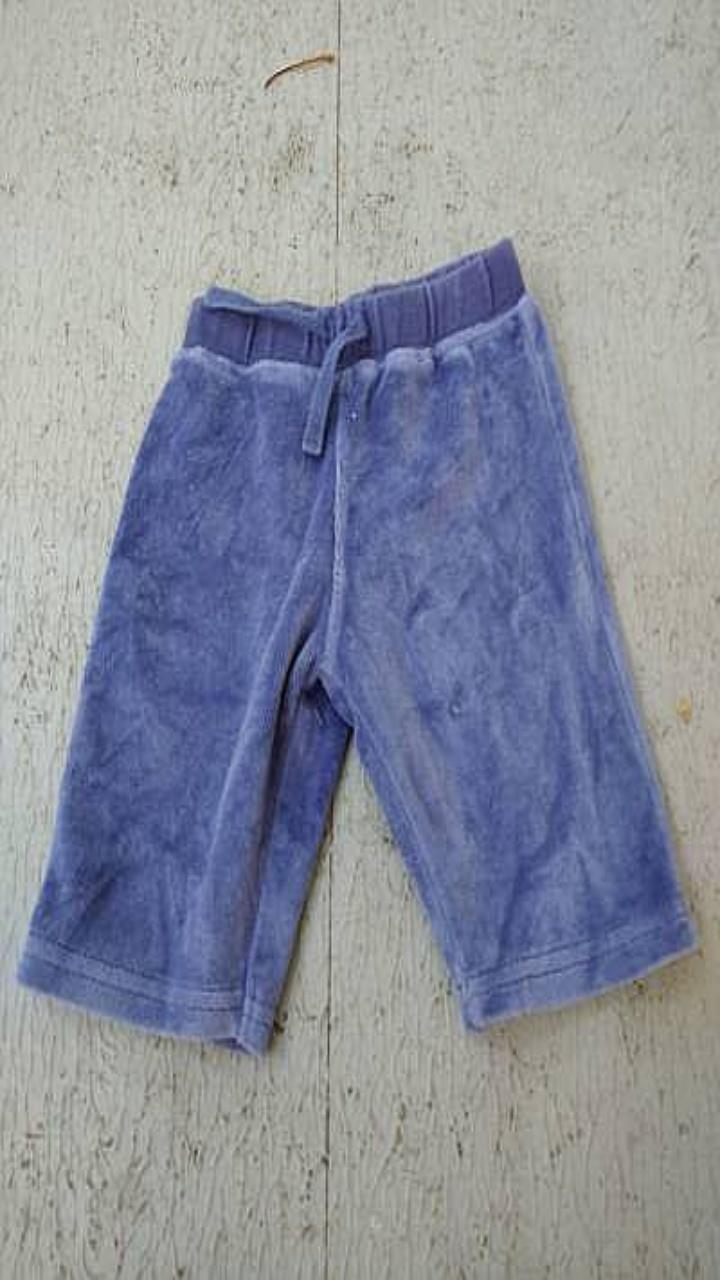Shorts: (17, 239, 698, 1053)
